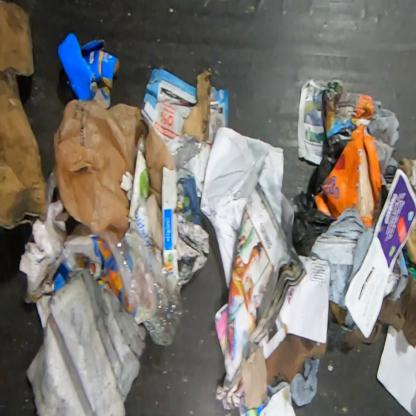cardboard: (0, 0, 48, 227), (314, 123, 382, 229), (57, 32, 121, 110)
soft_plastic: (53, 99, 143, 241), (106, 221, 185, 346), (292, 140, 348, 256), (171, 136, 204, 172)
